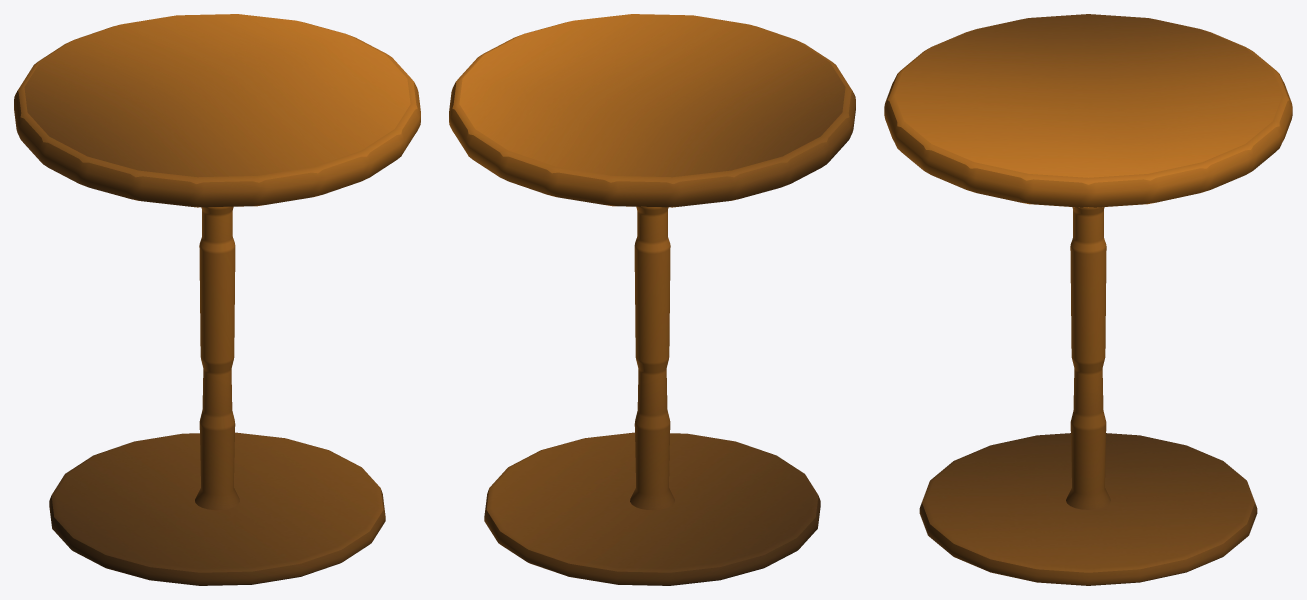
Rendered from Table_w_tablecloth.fbx.
The picture shows the model from 3 angles, left to right: view 1: azimuth 30°, elevation 25°; view 2: azimuth 150°, elevation 25°; view 3: azimuth 270°, elevation 25°; orthographic projection.
Visible parts, largest first — view 1: pCylinder83, pCylinder84; view 2: pCylinder83, pCylinder84; view 3: pCylinder83, pCylinder84.
Boxes of the visible parts, x1,y1,x2,y2 form: pCylinder83: (14,14,420,207); pCylinder84: (49,206,385,585); pCylinder83: (449,14,855,207); pCylinder84: (484,206,820,585); pCylinder83: (884,14,1292,207); pCylinder84: (919,207,1257,585).
Bounding box in the file's own units: 255 × 290 × 255.
